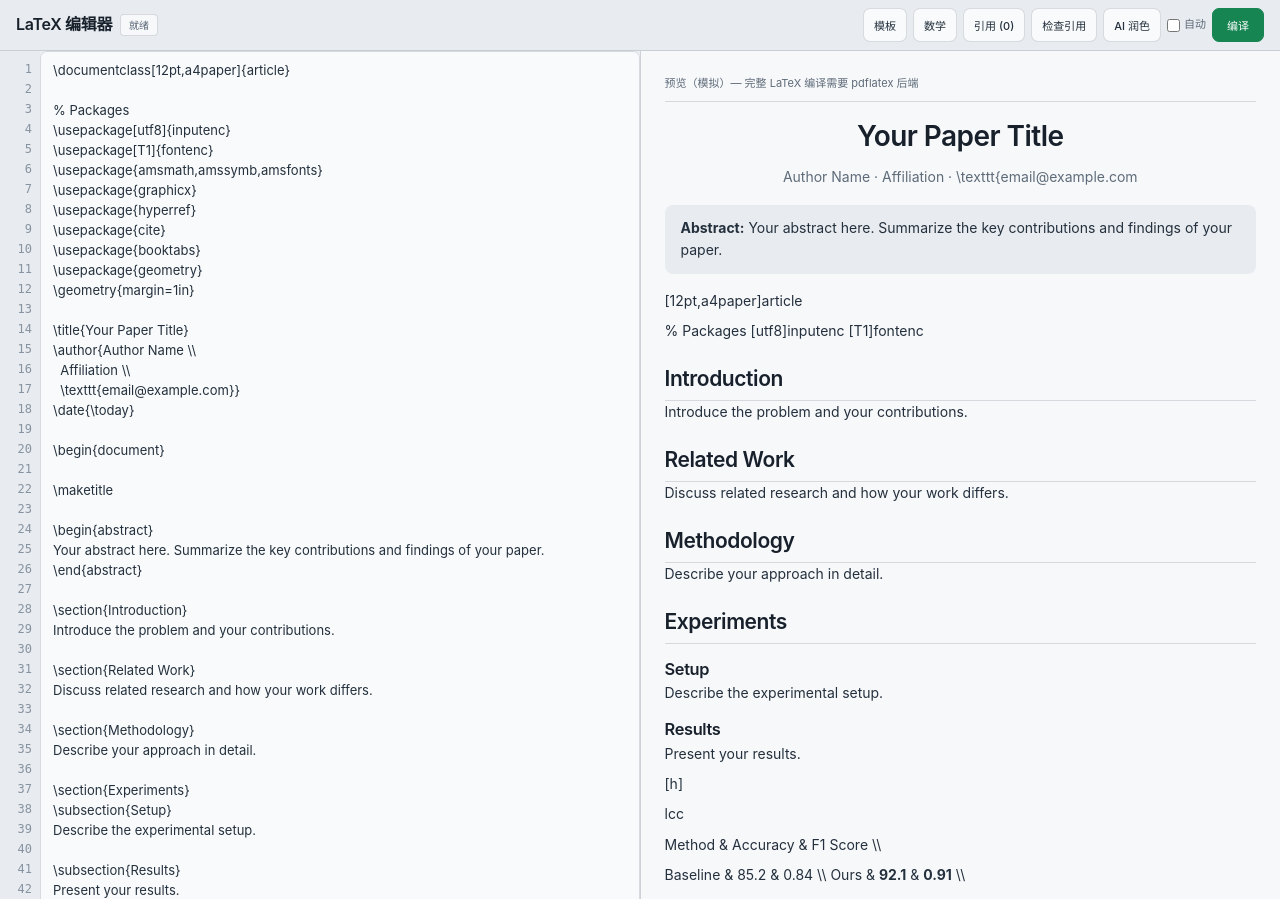
LatexPreviewPage › should show template panel when Templates clicked
What coordinates should you click on to do the following:
click the button "模板"
I would click on:
 (885, 25)
Its box is [863,8,907,42].
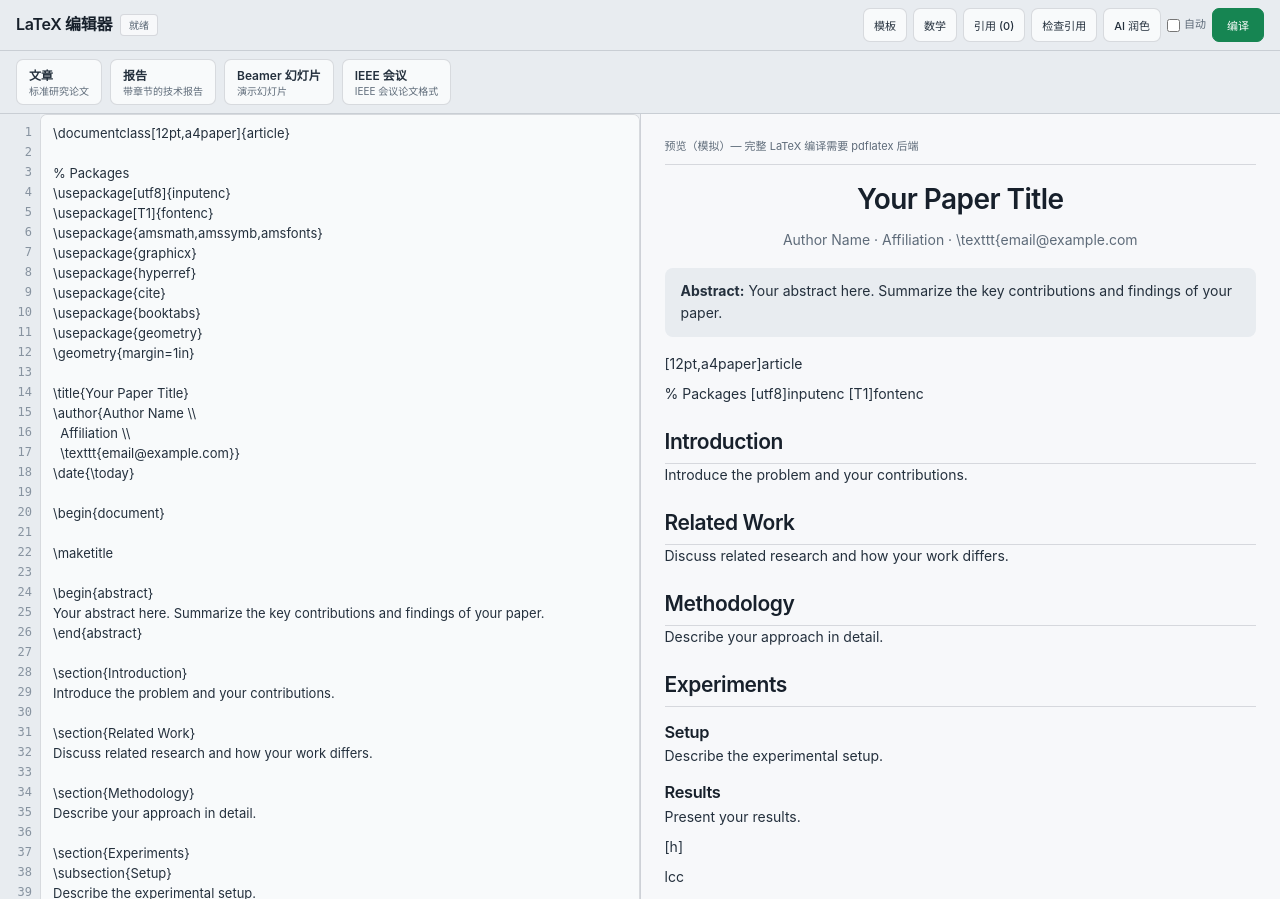
Check: the text "文章" is shown, box [29,68,53,83]
Check: the text "Beamer 幻灯片" is shown, box [237,66,321,83]
Check: the text "IEEE 会议" is shown, box [355,68,407,83]
